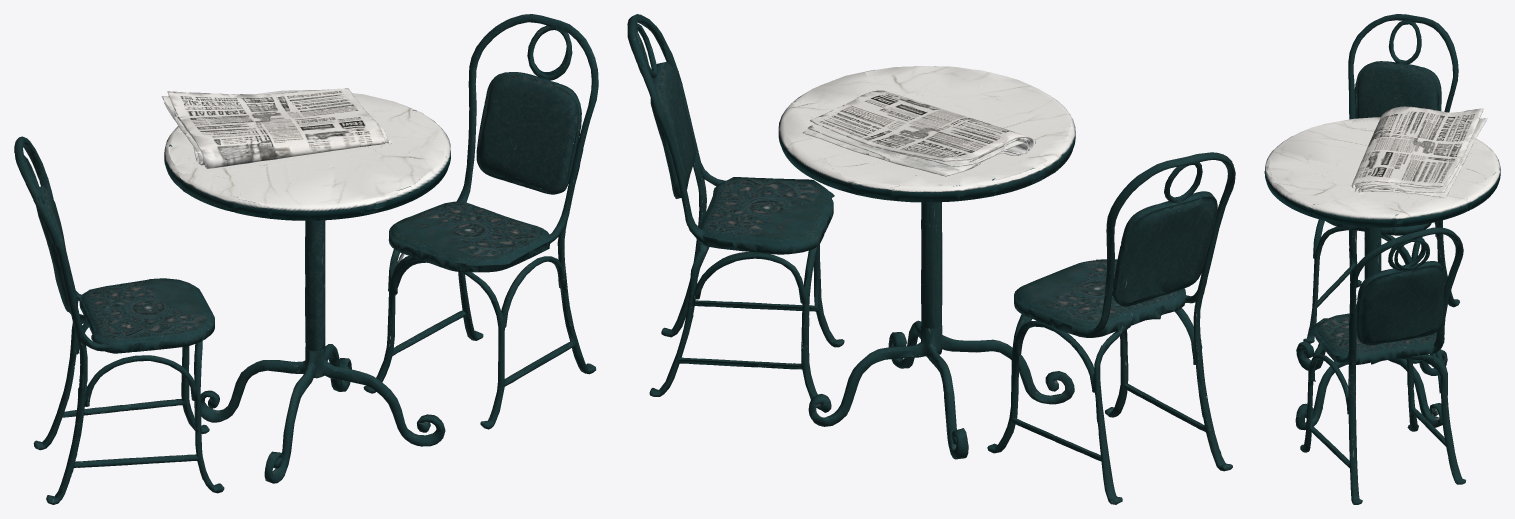
File: tavolino_caffe_lod0.glb
The picture shows the model from 3 angles, left to right: view 1: azimuth 30°, elevation 25°; view 2: azimuth 150°, elevation 25°; view 3: azimuth 270°, elevation 25°; orthographic projection. The views are drawn at different scales.
Visible parts, largest first — view 1: Mesh_0; view 2: Mesh_0; view 3: Mesh_0.
Part boxes in pixels (x1,y1,x2,y2): Mesh_0: (14,14,598,504); Mesh_0: (627,14,1235,504); Mesh_0: (1264,14,1500,504).
Size of the model in its own units: 1.6 by 0.9005 by 0.7001.
1 material, 1 textured.
